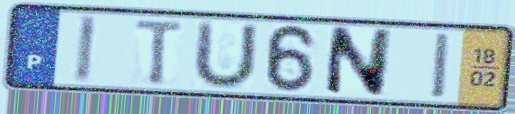6: (263, 22, 320, 96)
I: (72, 12, 101, 86), (430, 30, 454, 102)
N: (322, 24, 396, 99)
T: (133, 17, 187, 87)
U: (189, 18, 261, 92)
